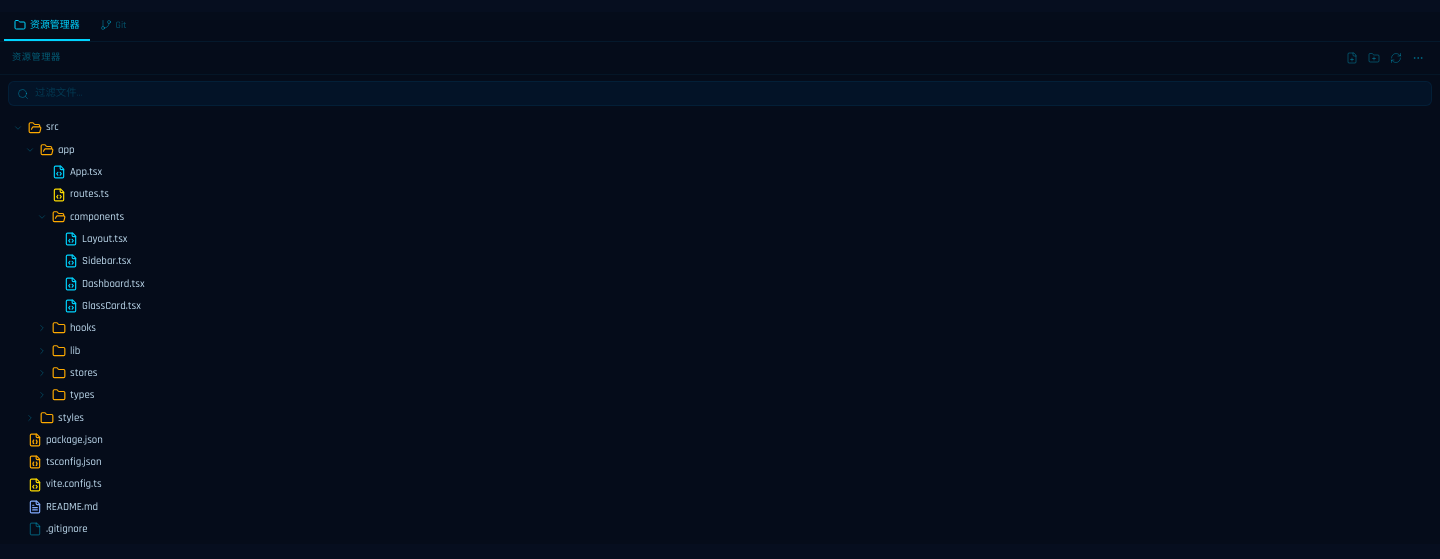
FileExplorer › 重命名 › Enter 提交新名称
The width and height of the screenshot is (1440, 559).
Right-click the text "App.tsx" at (86, 172), box [70,165,102,179]
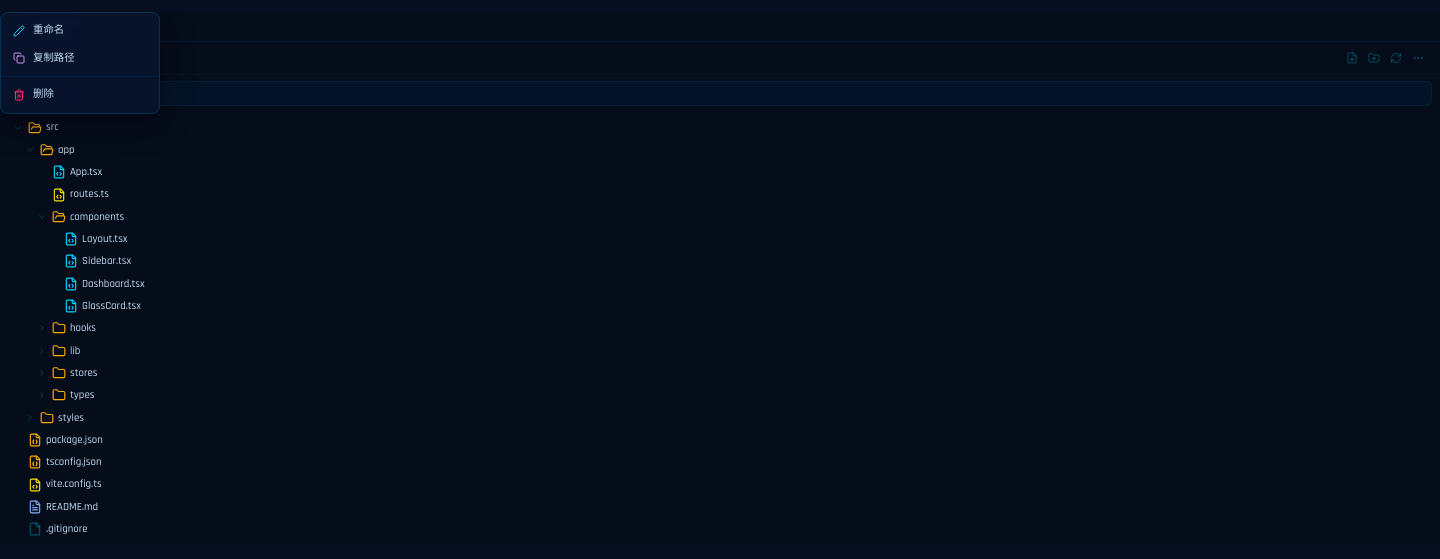
Click the button "重命名" at (80, 31), box [1,17,159,45]
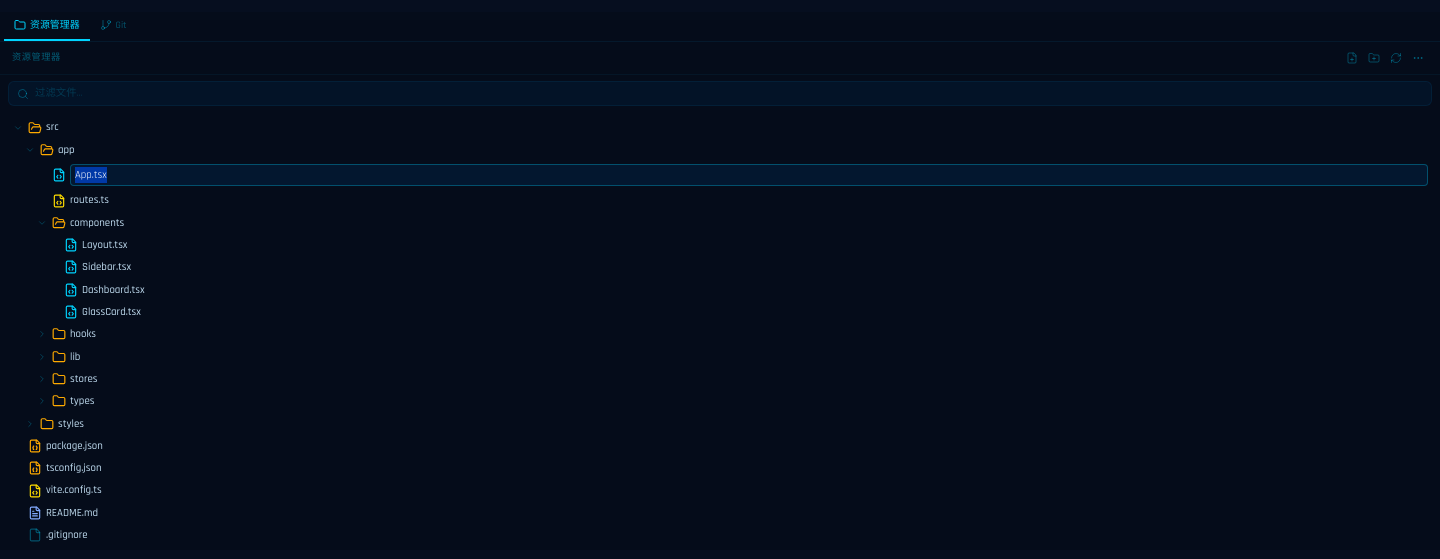
Replace the text in the field showing "App.tsx" with "Renamed.tsx" at (749, 175), box [70,164,1428,186]
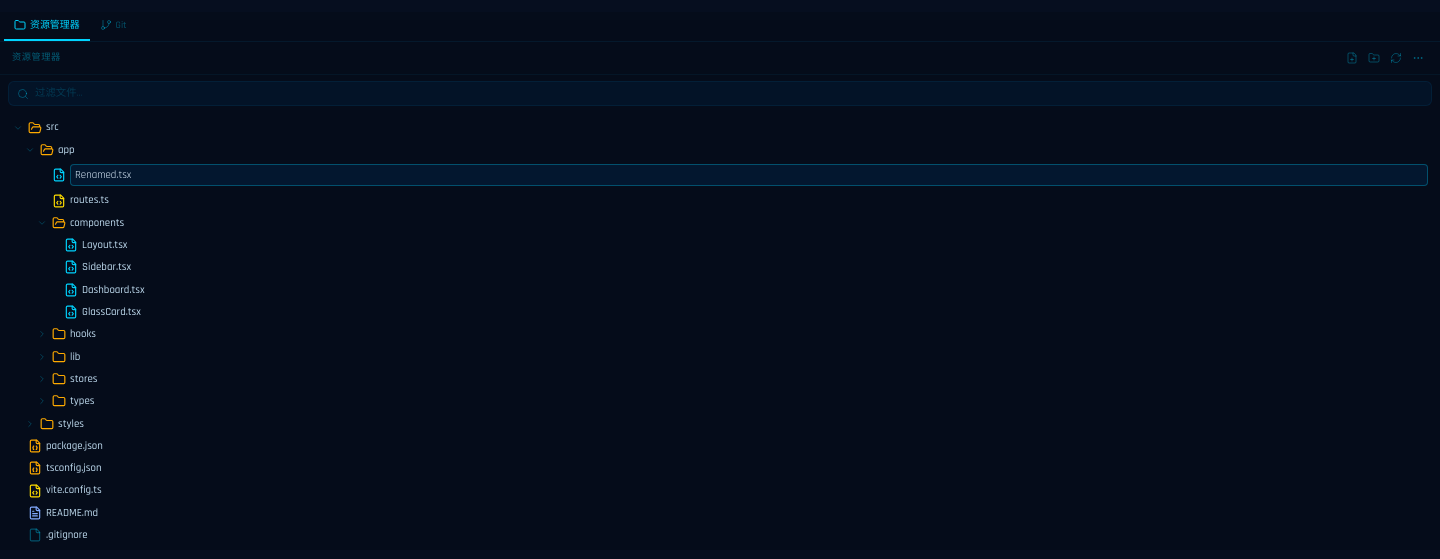
Press Enter in the field showing "App.tsx", box [70,164,1428,186]
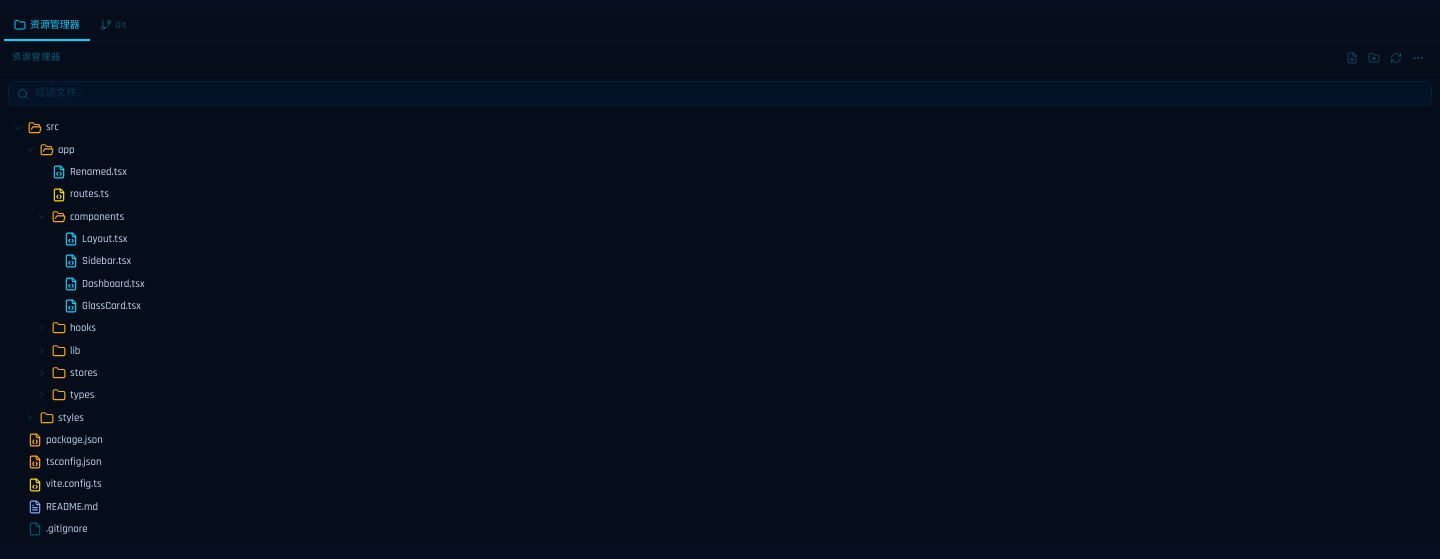
Expected: the text "App.tsx" is not shown
Expected: the text "Renamed.tsx" is shown, [70,165,127,179]
